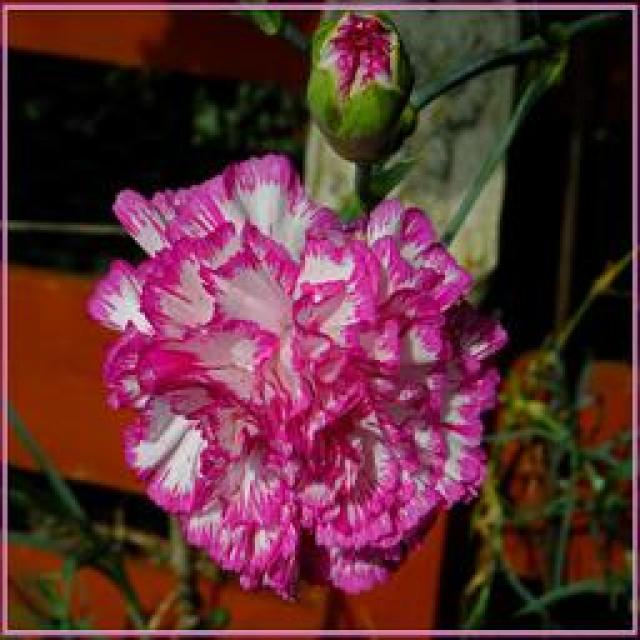carnation: (87, 156, 499, 604)
